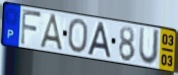8: (117, 25, 137, 63)
A: (38, 13, 66, 53), (86, 21, 113, 60)
F: (19, 8, 43, 48)
O: (67, 17, 89, 55)
U: (137, 26, 161, 67)
